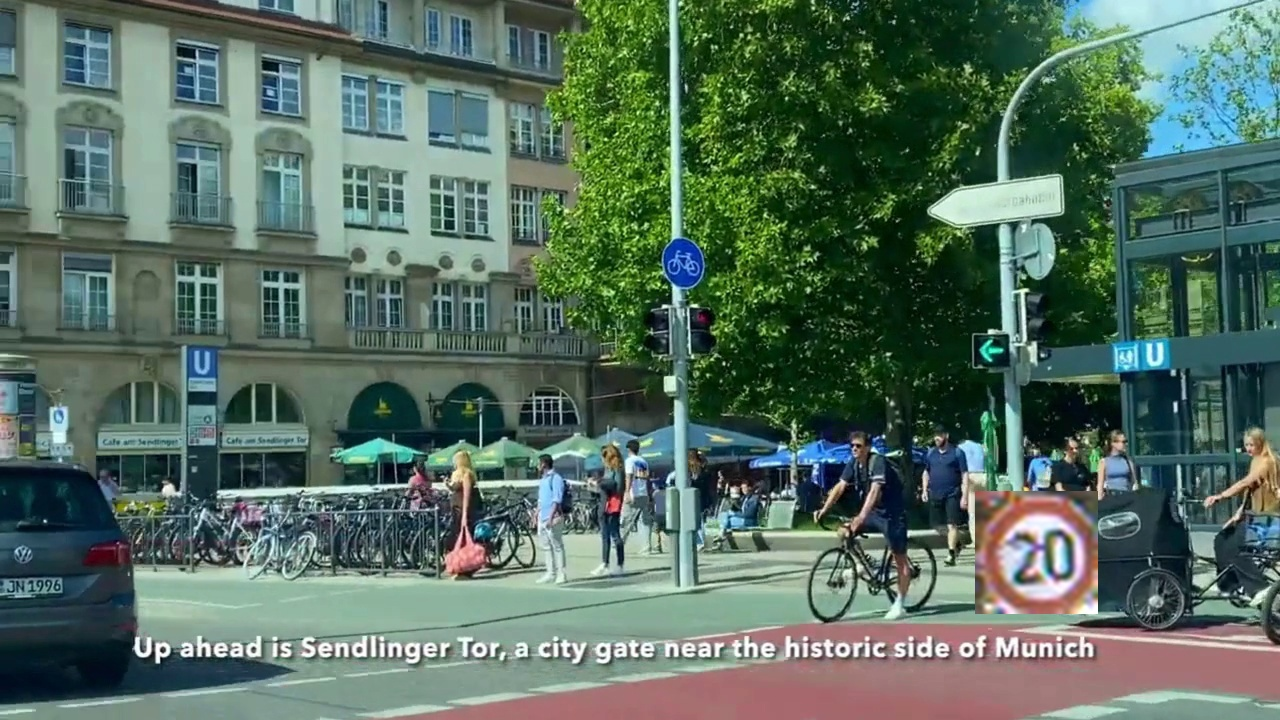Speed 20: (975, 491, 1098, 614)
